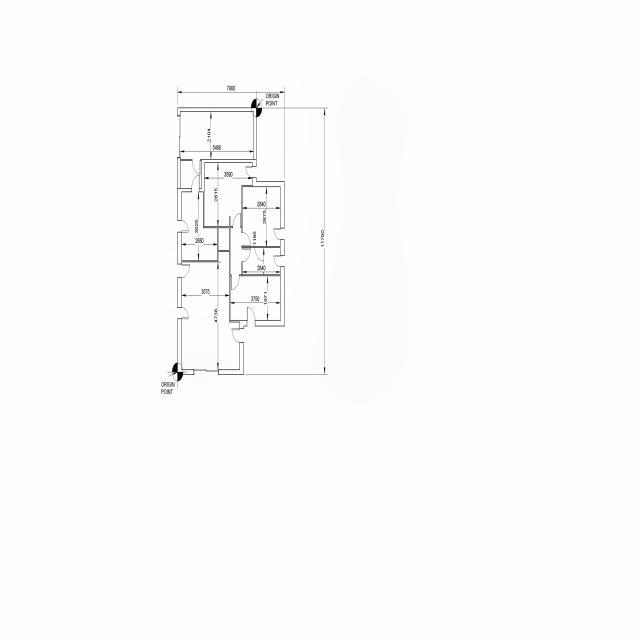Column: (177, 115, 181, 158)
Door: (177, 264, 190, 278), (247, 306, 256, 326), (232, 328, 244, 343), (230, 274, 240, 290), (191, 175, 200, 192), (232, 213, 242, 228), (177, 220, 189, 232), (177, 307, 189, 319), (241, 248, 251, 262), (246, 166, 256, 178), (274, 228, 284, 240), (274, 255, 284, 267), (242, 232, 250, 247), (192, 160, 200, 174)
Sliding Door: (194, 370, 218, 374)
